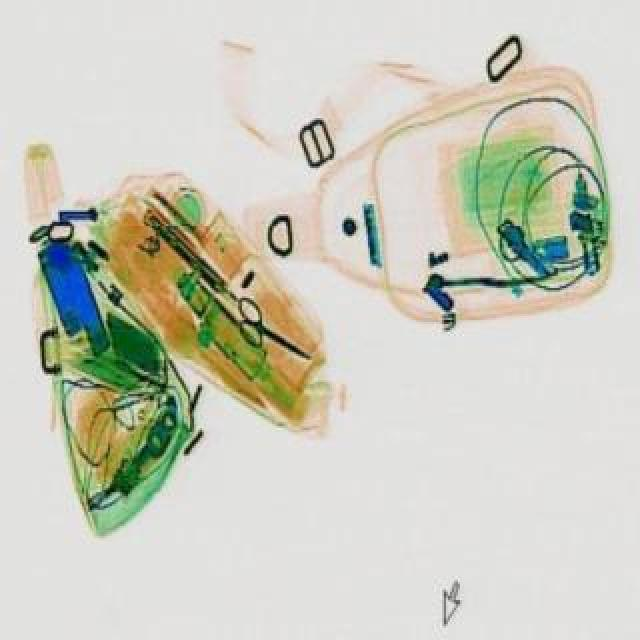pliers: (218, 300, 322, 380)
